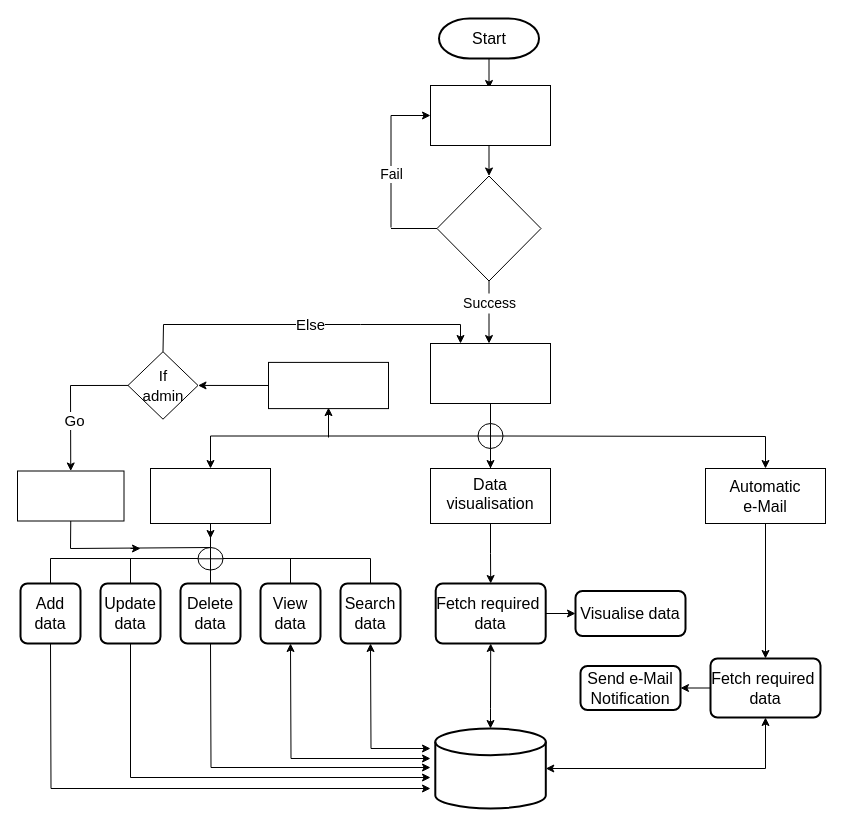
Some shapes in this 843 by 826 pixel diagram are drawn without their labels. The centre of each missing label's shape, as x and y in pixels:
Data management: pixel 210 496
Database: pixel 490 768
Login: pixel 490 115
Main window: pixel 490 373
User data management: pixel 70 495
User management: pixel 328 385
User verification: pixel 488 228
